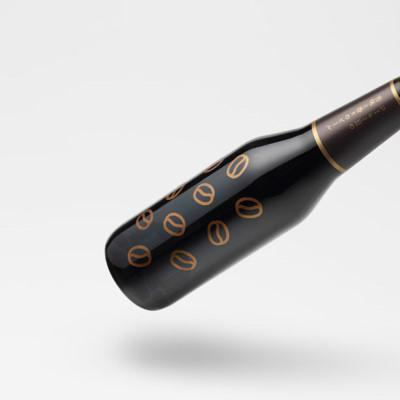beer: (103, 74, 398, 311)
